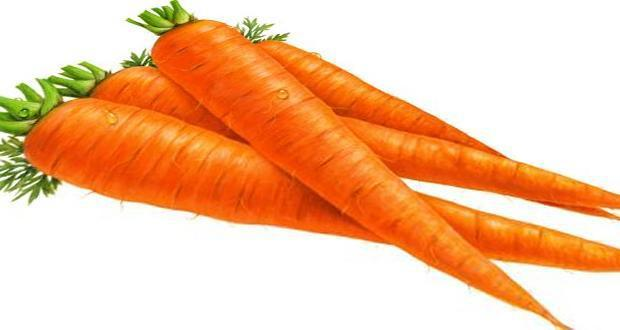carrot: (168, 36, 586, 330), (10, 80, 610, 273)
